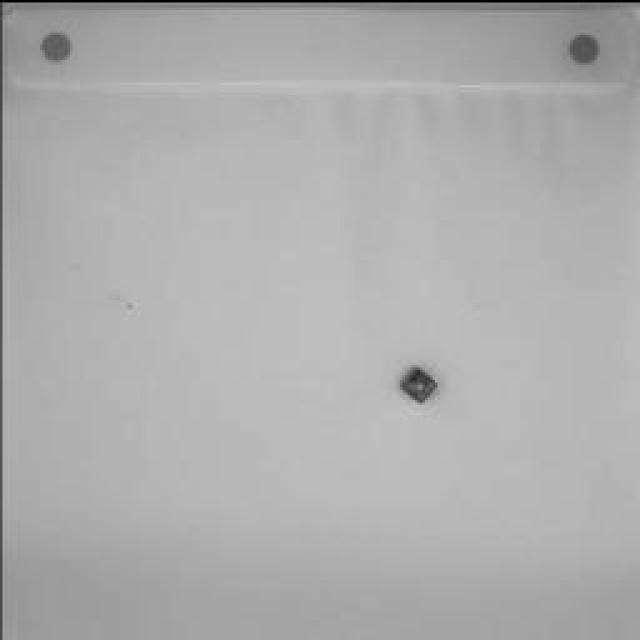dice_1: (399, 362, 439, 400)
